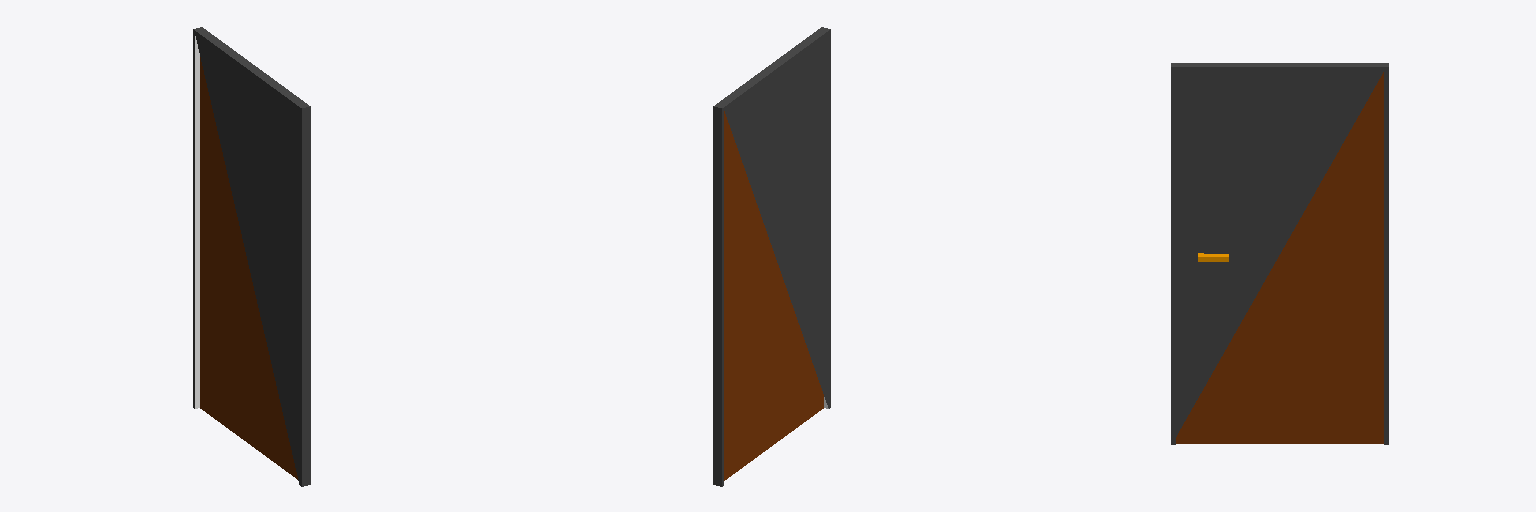
The model's file is door.obj.
3 renders of one model, left to right at view 1: azimuth 30°, elevation 25°; view 2: azimuth 150°, elevation 25°; view 3: azimuth 270°, elevation 25°, orthographic.
Visible parts, largest first — view 1: Mesh1 Model; view 2: Mesh1 Model; view 3: Mesh1 Model.
Boxes of the visible parts, box(x1,y1,x2,y2) form: Mesh1 Model: box(193, 27, 310, 486); Mesh1 Model: box(713, 27, 830, 486); Mesh1 Model: box(1171, 63, 1388, 444).
Size of the model in its own units: 95 by 2000 by 1040.